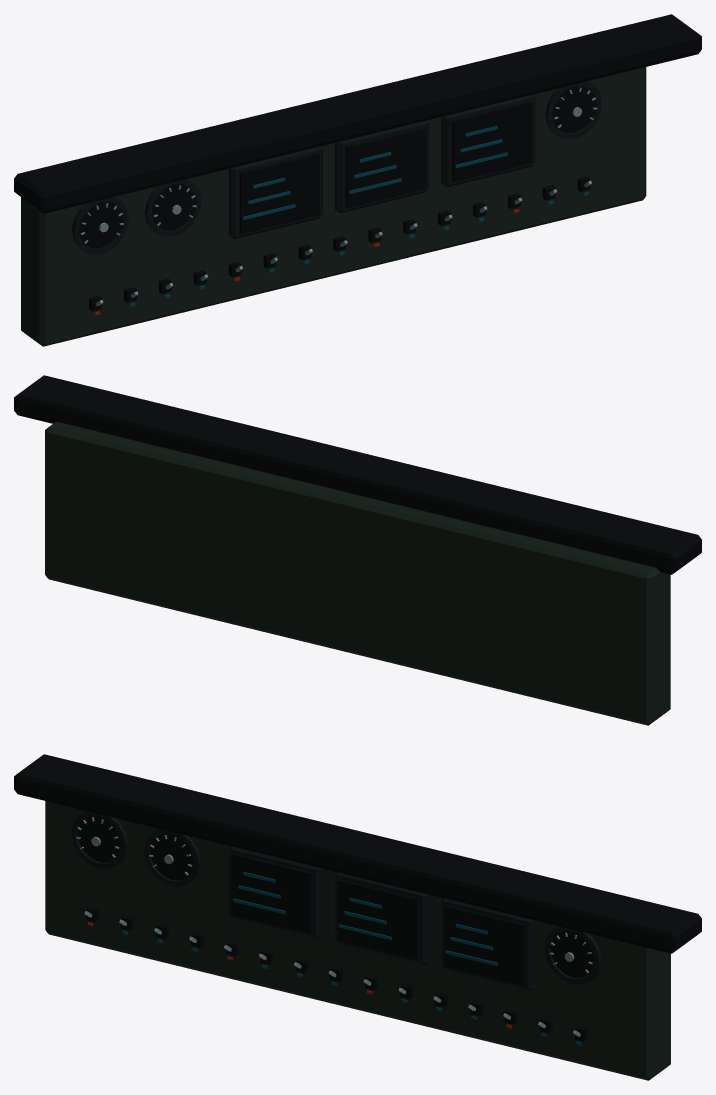
Rendered from Cockpit_Transport__Panel.obj.
3 views of the same model, one above another, from view 1: azimuth 30°, elevation 25°; view 2: azimuth 150°, elevation 25°; view 3: azimuth 330°, elevation 25° (orthographic).
Parts seen in each view (by area): view 1: Broad_transport_panel, Glare_shield, Engine_dark_inset, Approach_dark_inset, Navigation_dark_inset, Engine_case, Approach_case, Navigation_case, AGL_face, Speed_face, Fuel_face, Speed_bezel (+2 smaller); view 2: Broad_transport_panel, Glare_shield; view 3: Broad_transport_panel, Glare_shield, Navigation_dark_inset, Engine_dark_inset, Approach_dark_inset, Approach_case, Navigation_case, Engine_case, Fuel_face, Speed_face, AGL_face, Fuel_bezel (+2 smaller).
Boxes of the visible parts, x1=… form: Broad_transport_panel: x1=21, y1=67, x2=646, y2=346; Glare_shield: x1=14, y1=14, x2=701, y2=213; Engine_dark_inset: x1=345, y1=127, x2=426, y2=208; Approach_dark_inset: x1=452, y1=101, x2=532, y2=182; Navigation_dark_inset: x1=239, y1=153, x2=319, y2=233; Engine_case: x1=335, y1=120, x2=429, y2=213; Approach_case: x1=441, y1=94, x2=535, y2=187; Navigation_case: x1=229, y1=146, x2=322, y2=239; AGL_face: x1=152, y1=184, x2=195, y2=230; Speed_face: x1=79, y1=201, x2=122, y2=248; Fuel_face: x1=552, y1=86, x2=595, y2=132; Speed_bezel: x1=72, y1=197, x2=128, y2=254; Broad_transport_panel: x1=45, y1=421, x2=670, y2=725; Glare_shield: x1=14, y1=375, x2=701, y2=574; Broad_transport_panel: x1=45, y1=801, x2=670, y2=1080; Glare_shield: x1=14, y1=754, x2=701, y2=953; Navigation_dark_inset: x1=232, y1=853, x2=312, y2=933; Engine_dark_inset: x1=338, y1=879, x2=418, y2=959; Approach_dark_inset: x1=444, y1=905, x2=524, y2=985; Approach_case: x1=441, y1=898, x2=535, y2=990; Navigation_case: x1=229, y1=846, x2=323, y2=939; Engine_case: x1=335, y1=872, x2=429, y2=964; Fuel_face: x1=551, y1=931, x2=594, y2=977; Speed_face: x1=77, y1=816, x2=120, y2=862; AGL_face: x1=150, y1=833, x2=193, y2=880; Fuel_bezel: x1=544, y1=926, x2=601, y2=984.
Size of the model in its own units: 2.18 by 0.5325 by 0.215.
